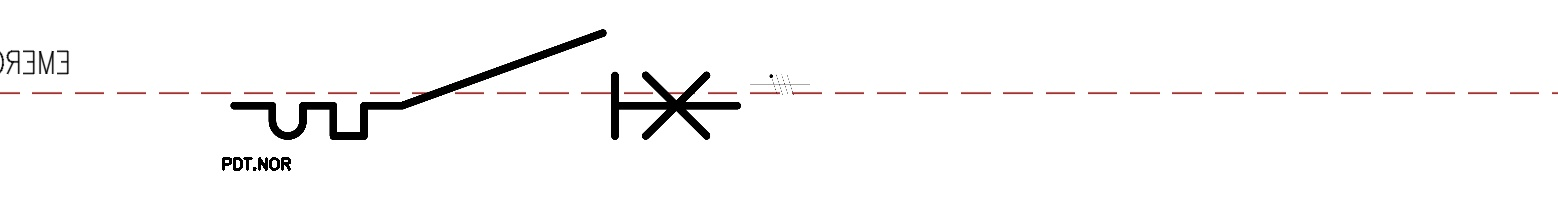interruptor_termomagnetico: (221, 20, 750, 149)
